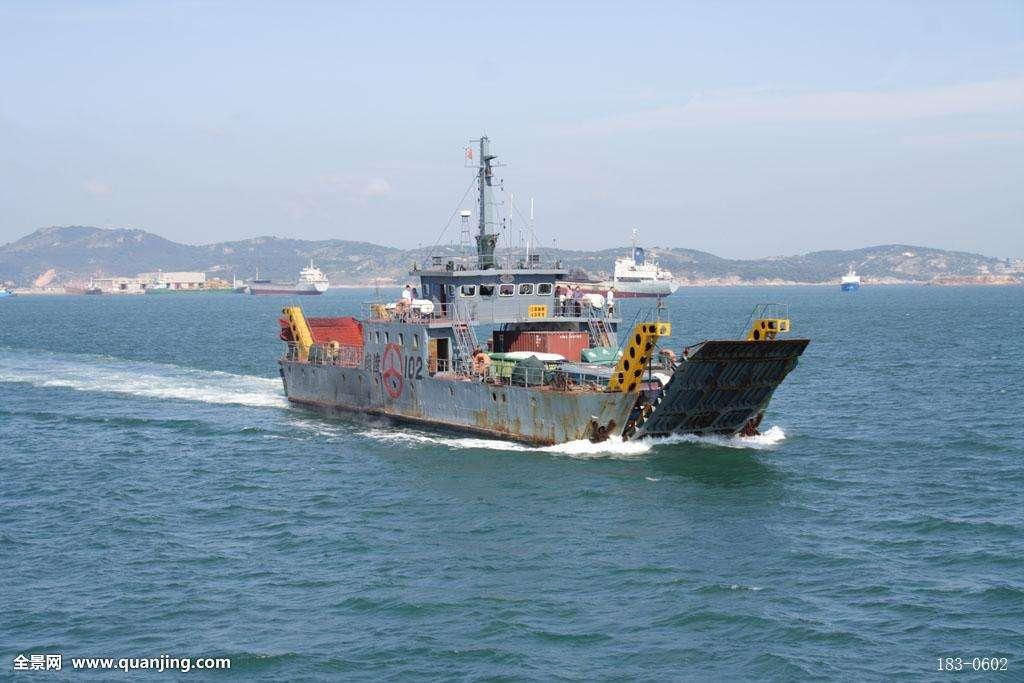Cargoship: (532, 236, 683, 296), (246, 257, 339, 299)
otherboat: (229, 132, 845, 448), (839, 267, 865, 297)
